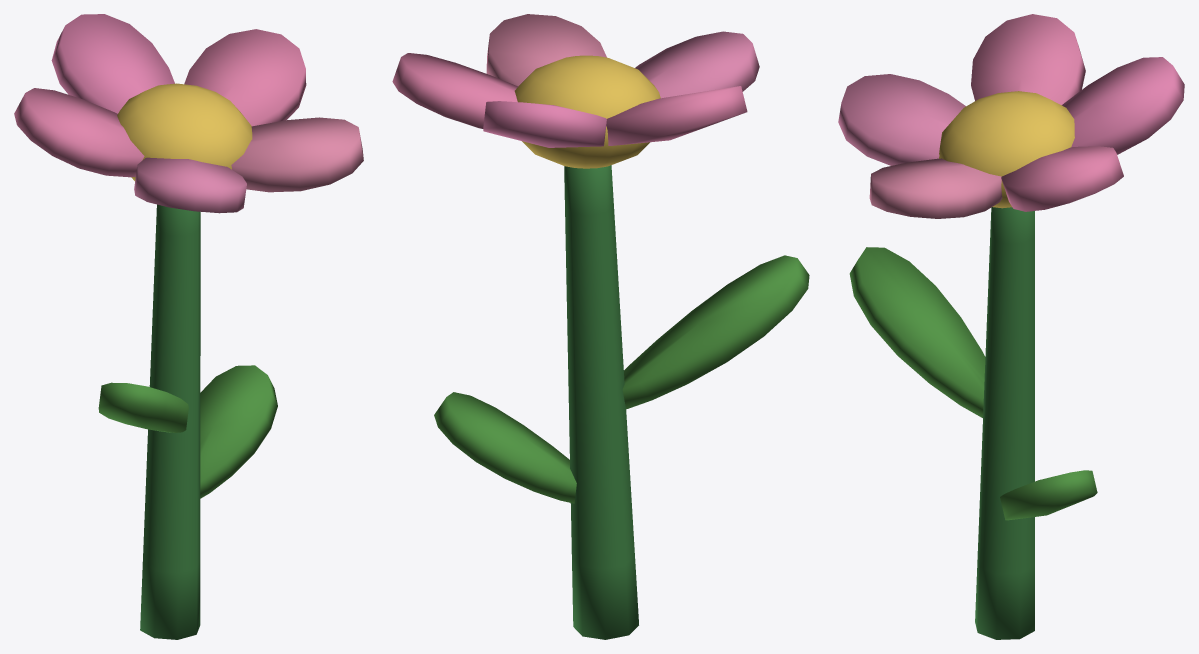
Rendered from W3_FloraRing_11_12.fbx.
3 renders of one model, left to right at view 1: azimuth 30°, elevation 25°; view 2: azimuth 150°, elevation 25°; view 3: azimuth 270°, elevation 25°, orthographic. The views are drawn at different scales.
Parts seen in each view (by area): view 1: W3_FloraRing_11_12; view 2: W3_FloraRing_11_12; view 3: W3_FloraRing_11_12.
Boxes of the visible parts, x1,y1,x2,y2 form: W3_FloraRing_11_12: [14, 14, 363, 639]; W3_FloraRing_11_12: [392, 14, 809, 639]; W3_FloraRing_11_12: [838, 14, 1184, 639].
Size of the model in its own units: 0.095 by 0.1708 by 0.0946.
